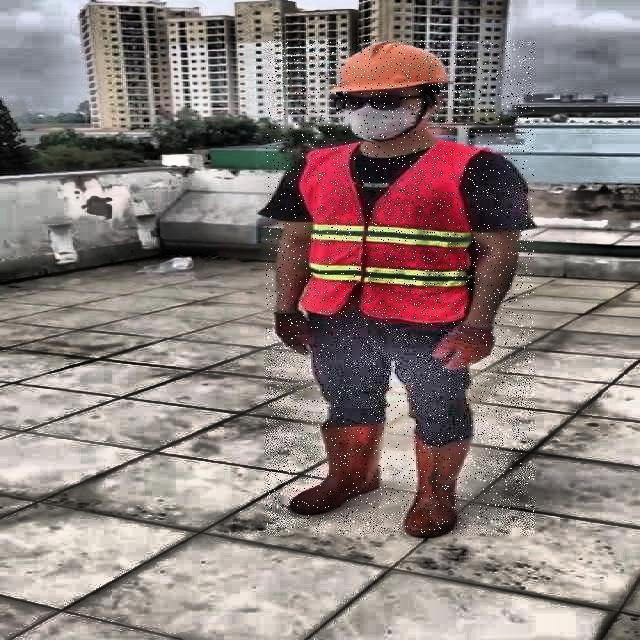safety_helmet: (323, 42, 454, 94)
safety_jacket: (300, 142, 474, 323)
